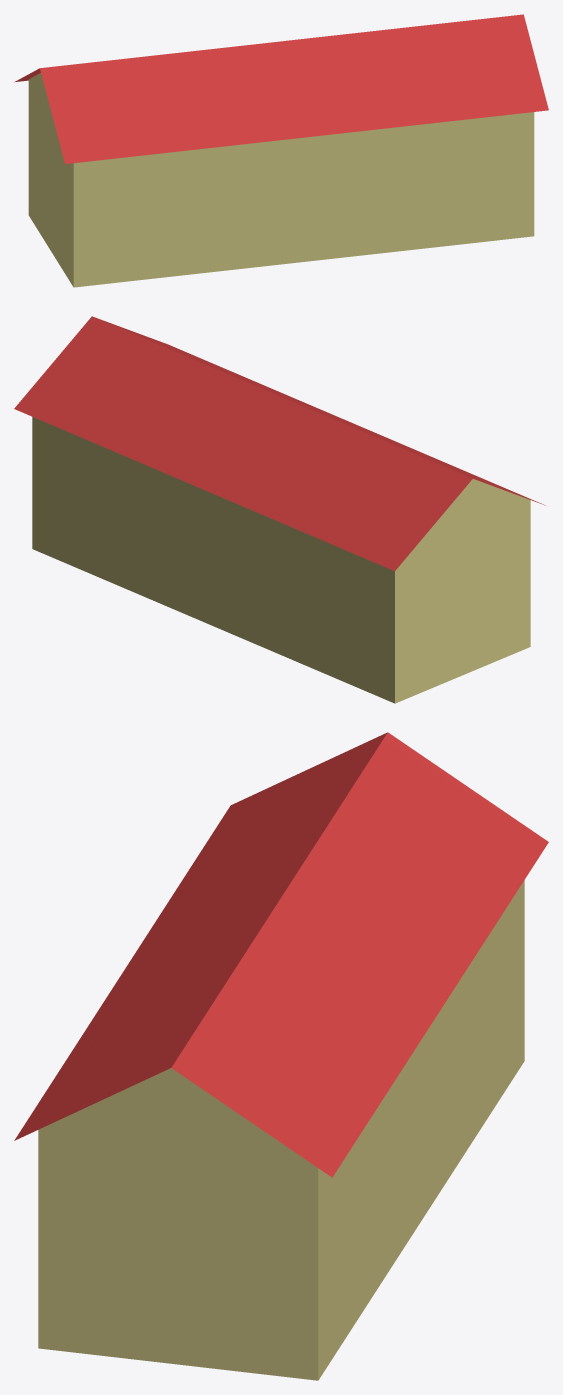
The picture shows the model from 3 angles, top to bottom: view 1: azimuth 30°, elevation 25°; view 2: azimuth 150°, elevation 25°; view 3: azimuth 270°, elevation 25°; orthographic projection. The views are drawn at different scales.
Size of the model in its own units: 33.18 by 20.14 by 12.65.
